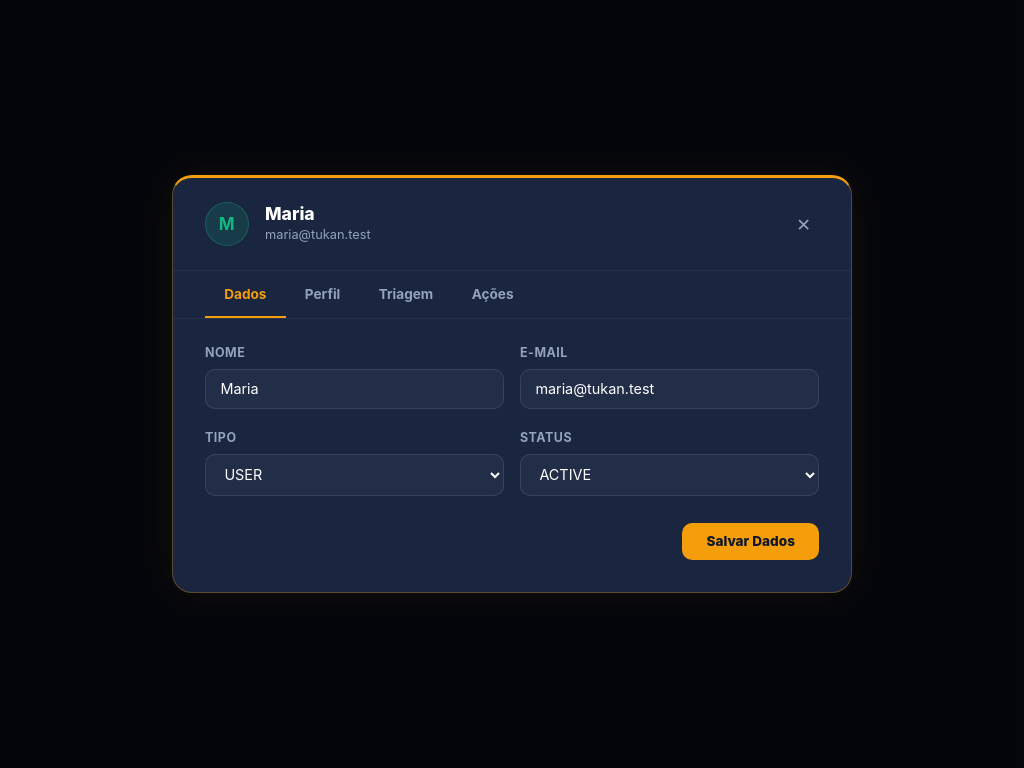
AdminUserModal — diet type in the admin triagem flow › blocks creation and shows a clear error when dietType is missing
Click the button with class "tab-btn" showing "Triagem" at (406, 295), box [360,271,452,318]
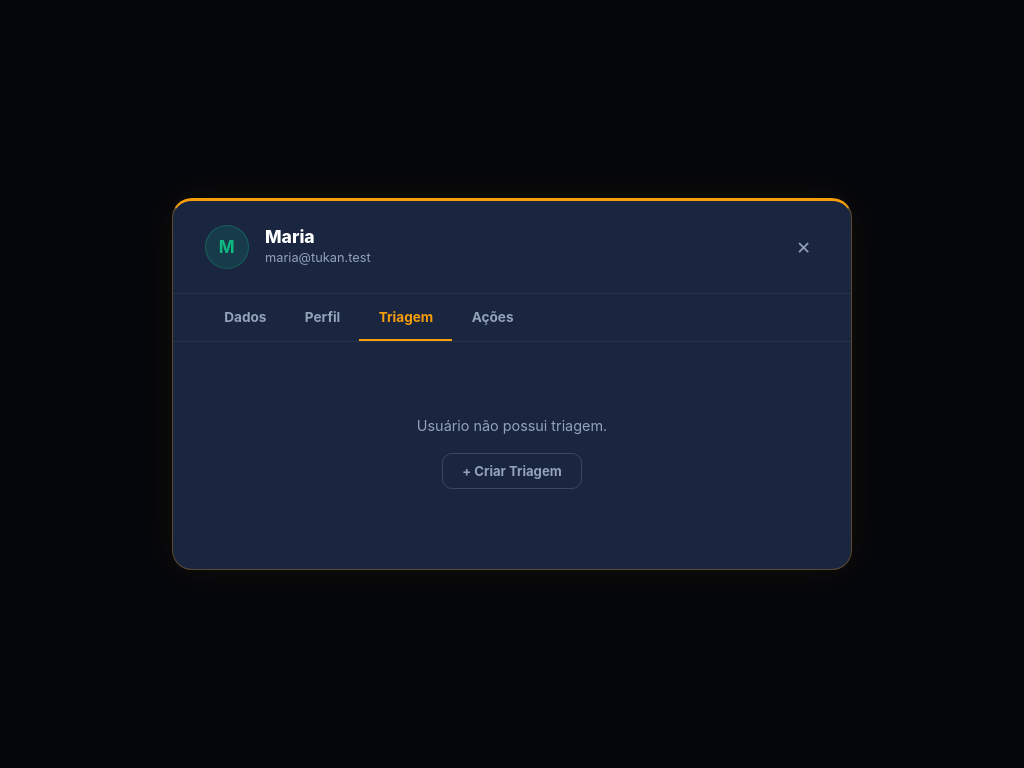
Click the button "+ Criar Triagem" at (512, 471), box [442,453,582,489]
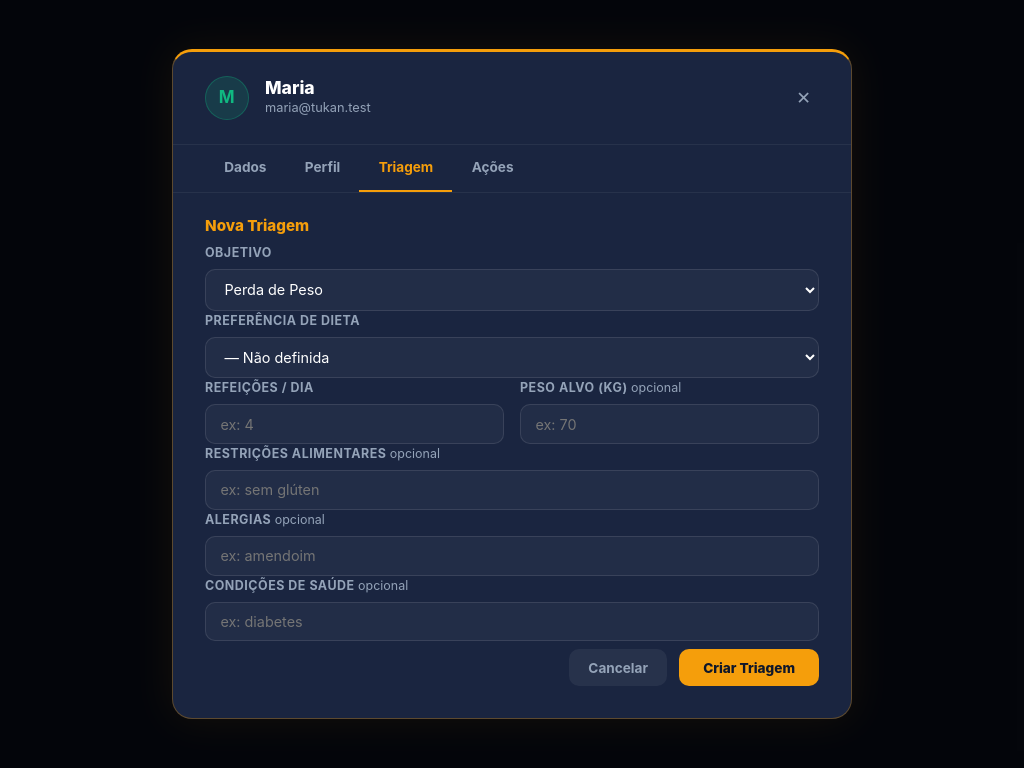
Type "4" into the number field with placeholder "ex: 4" at (354, 424), box [205,404,504,444]
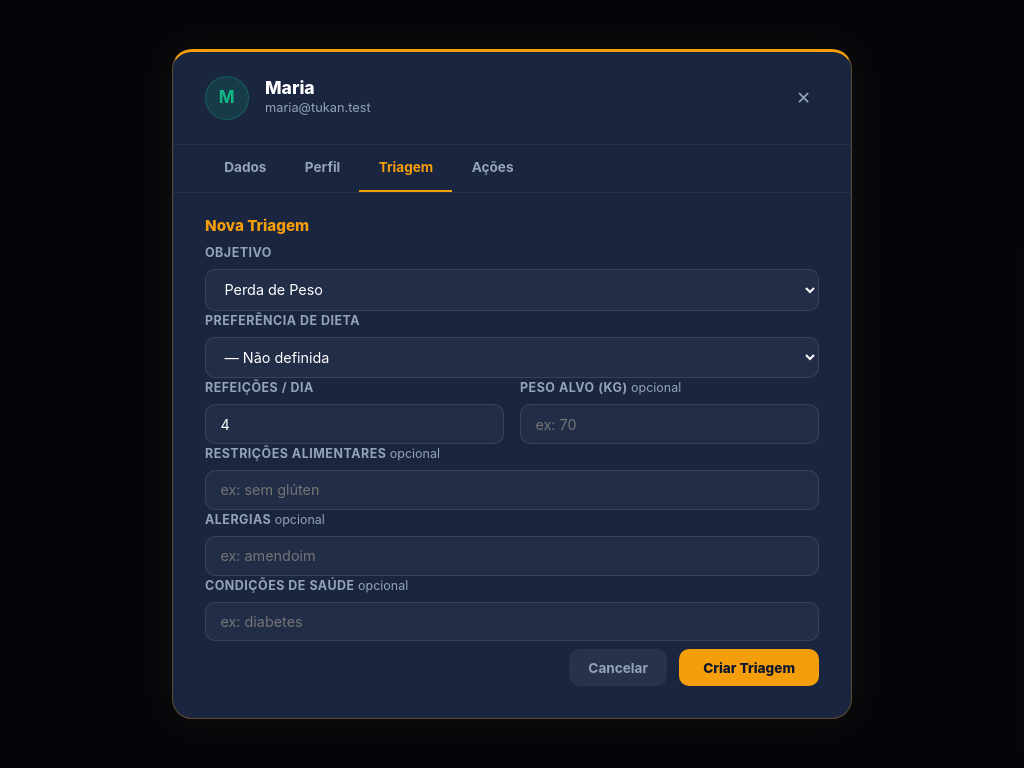
Click the button with class "btn-salvar" at (749, 668), box [679,649,819,686]
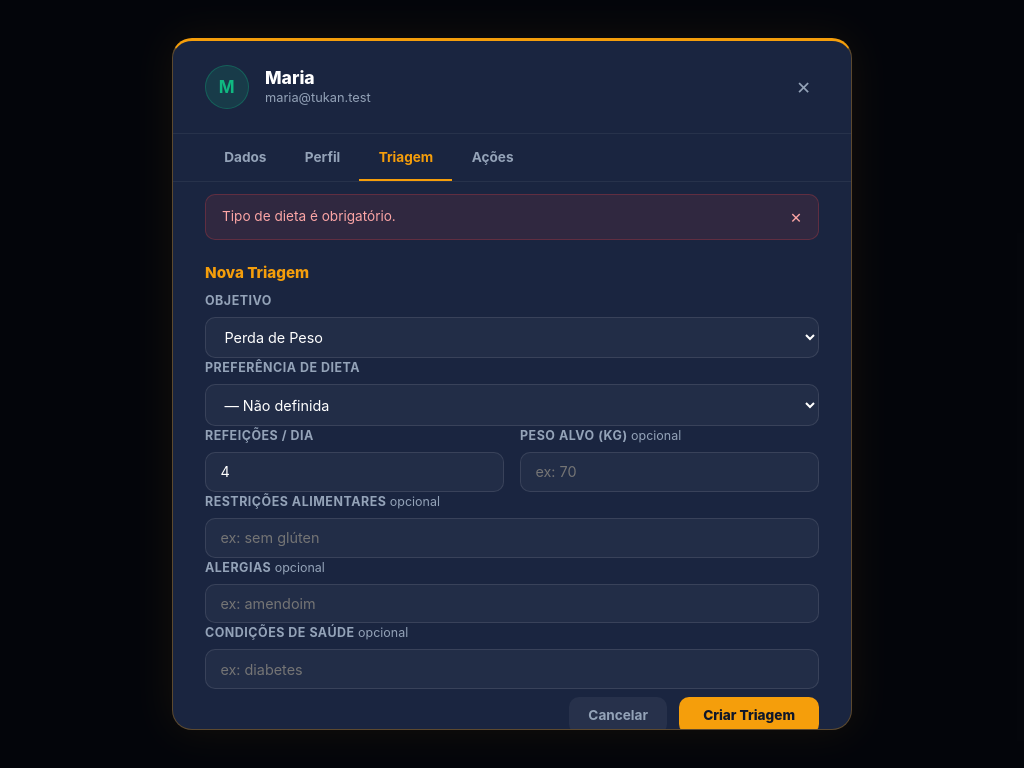
Now the element with class "erro" shows "Tipo de dieta é obrigatório", box [222,208,396,224]
